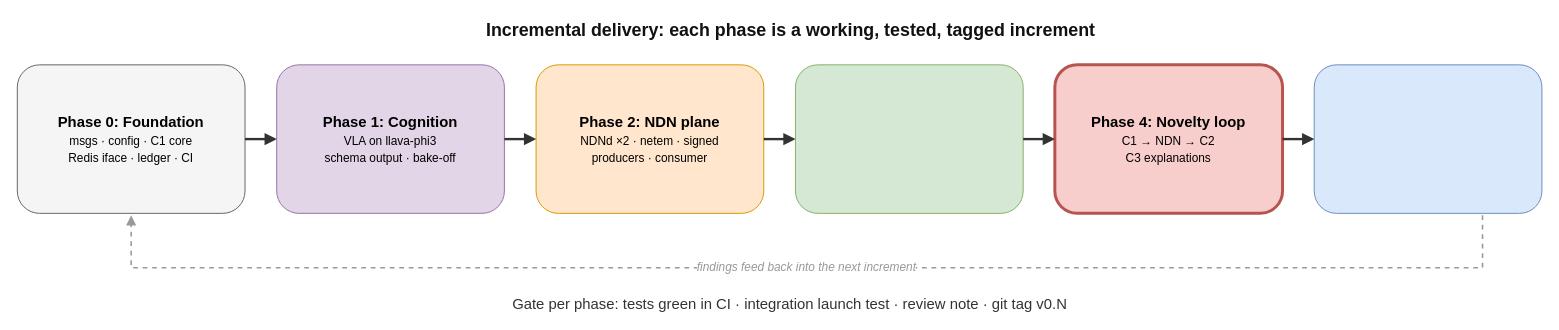
The diagram is 1559 pixels wide and 330 high, and some of its shapes have lost their labels. Here are the shapes that lost their labels. From the top down, the centre of each, then its label:
(x=908, y=138): Phase 3: Driving planner · tracker LiDAR safety envelope
(x=1427, y=138): Phase 5: Evaluation baselines · 30-run stats · figures
